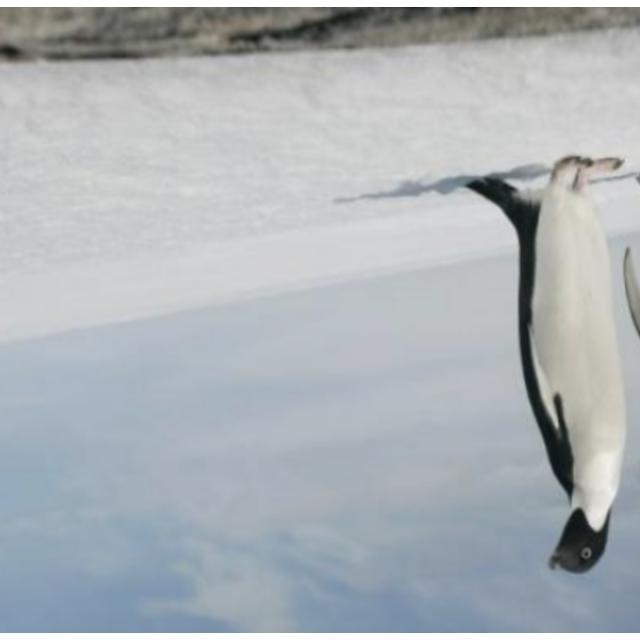penguin: (464, 157, 627, 575)
